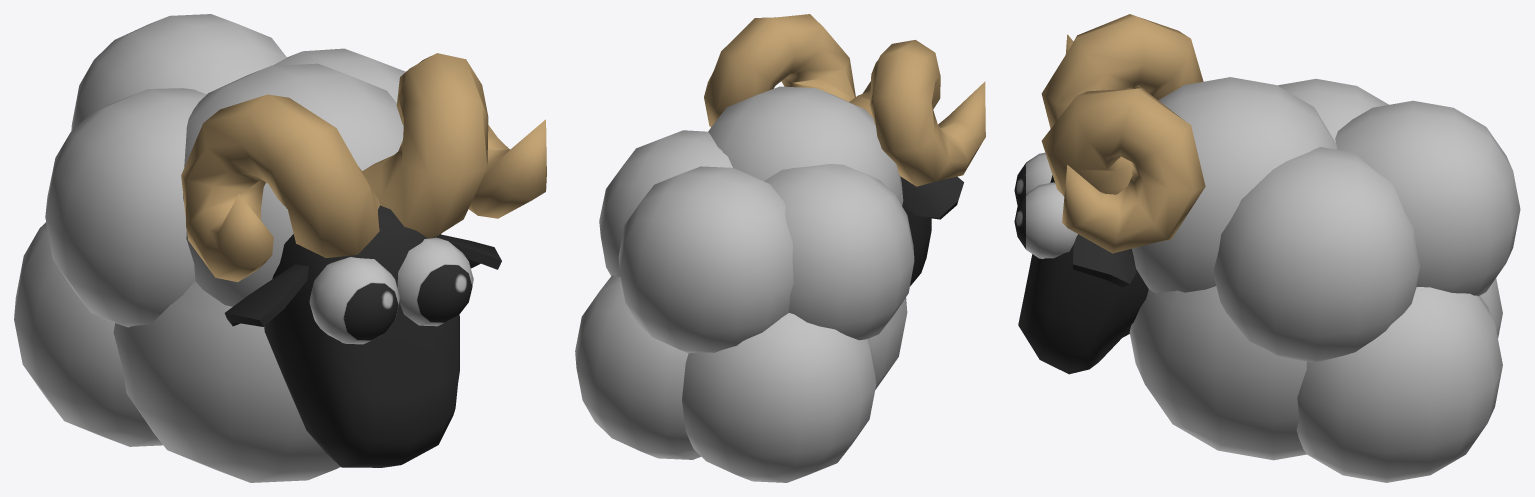
The model's file is Farm_Animal_Sheep_01.fbx.
3 views of the same model, side by side, from view 1: azimuth 30°, elevation 25°; view 2: azimuth 150°, elevation 25°; view 3: azimuth 270°, elevation 25° (orthographic). The views are drawn at different scales.
Parts seen in each view (by area): view 1: Farm_Animal_Sheep_01; view 2: Farm_Animal_Sheep_01; view 3: Farm_Animal_Sheep_01.
Part boxes in pixels (left/top/right/bottom): Farm_Animal_Sheep_01: left=14, top=14, right=546, bottom=482; Farm_Animal_Sheep_01: left=575, top=14, right=985, bottom=482; Farm_Animal_Sheep_01: left=1014, top=14, right=1520, bottom=482.
Bounding box in the file's own units: 70.39 × 80.82 × 94.53.
